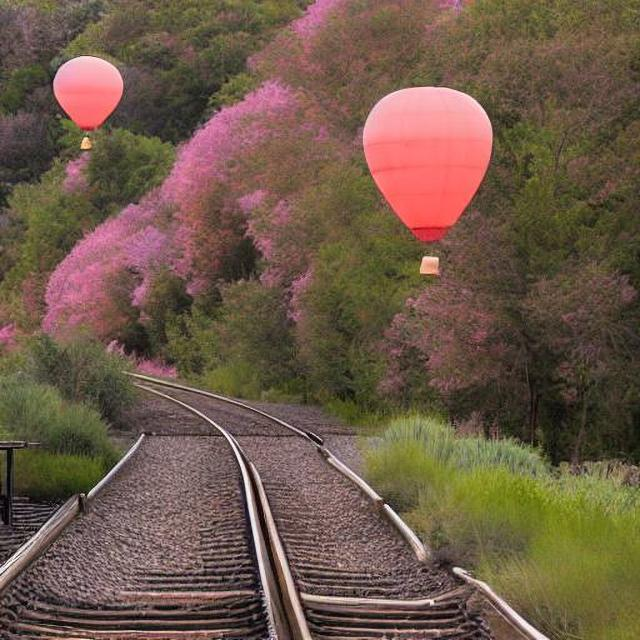balloon: (359, 88, 496, 242), (50, 52, 124, 130)
